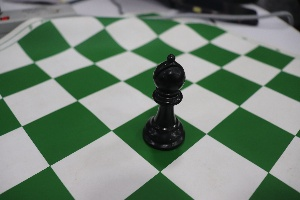black_bishop: (136, 41, 190, 155)
